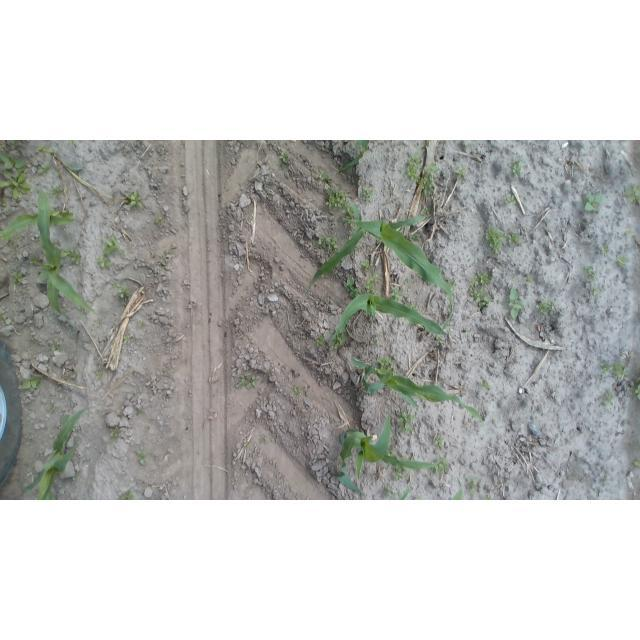Maize: (307, 201, 453, 336), (352, 357, 483, 423), (336, 415, 442, 496), (34, 188, 96, 315), (23, 408, 86, 500), (331, 294, 447, 341), (1, 209, 74, 240), (394, 480, 469, 500), (335, 140, 369, 176)
Weeds: (408, 155, 437, 196), (1, 167, 32, 200), (502, 286, 525, 320), (468, 287, 492, 307), (487, 228, 506, 251), (1, 152, 24, 170), (326, 190, 346, 210), (104, 237, 125, 256), (235, 373, 257, 389), (343, 207, 358, 230), (583, 193, 602, 211), (318, 236, 338, 253), (471, 270, 492, 286), (624, 185, 640, 206), (399, 412, 414, 434), (125, 190, 143, 208), (62, 247, 83, 261), (366, 274, 380, 294), (346, 277, 359, 298), (316, 170, 333, 186), (536, 300, 554, 315), (432, 457, 448, 473), (22, 376, 41, 389), (615, 363, 628, 380), (631, 376, 640, 400), (583, 265, 597, 280), (117, 490, 137, 500), (120, 288, 131, 306), (602, 391, 615, 406), (335, 333, 346, 349), (512, 160, 523, 176), (454, 168, 467, 181), (510, 234, 523, 247), (137, 451, 148, 466), (96, 257, 112, 267), (279, 151, 290, 165), (618, 254, 630, 266), (36, 166, 52, 175), (362, 188, 374, 200), (378, 356, 391, 367), (390, 289, 403, 300), (395, 467, 412, 475), (49, 188, 63, 197), (13, 272, 24, 283), (361, 259, 372, 269), (505, 194, 516, 204), (110, 428, 121, 438), (408, 232, 420, 241), (7, 141, 18, 150), (421, 206, 432, 215), (468, 479, 477, 490), (602, 243, 610, 255), (434, 436, 442, 448), (592, 285, 601, 295), (33, 256, 43, 265), (602, 362, 609, 374), (482, 380, 491, 389), (51, 344, 60, 353), (294, 386, 303, 395), (316, 338, 326, 346), (136, 408, 144, 417), (111, 281, 120, 288), (526, 276, 533, 284), (97, 371, 104, 379), (155, 217, 162, 225), (123, 335, 132, 340), (634, 461, 640, 468), (484, 496, 492, 501), (140, 319, 145, 326), (401, 456, 408, 460)
